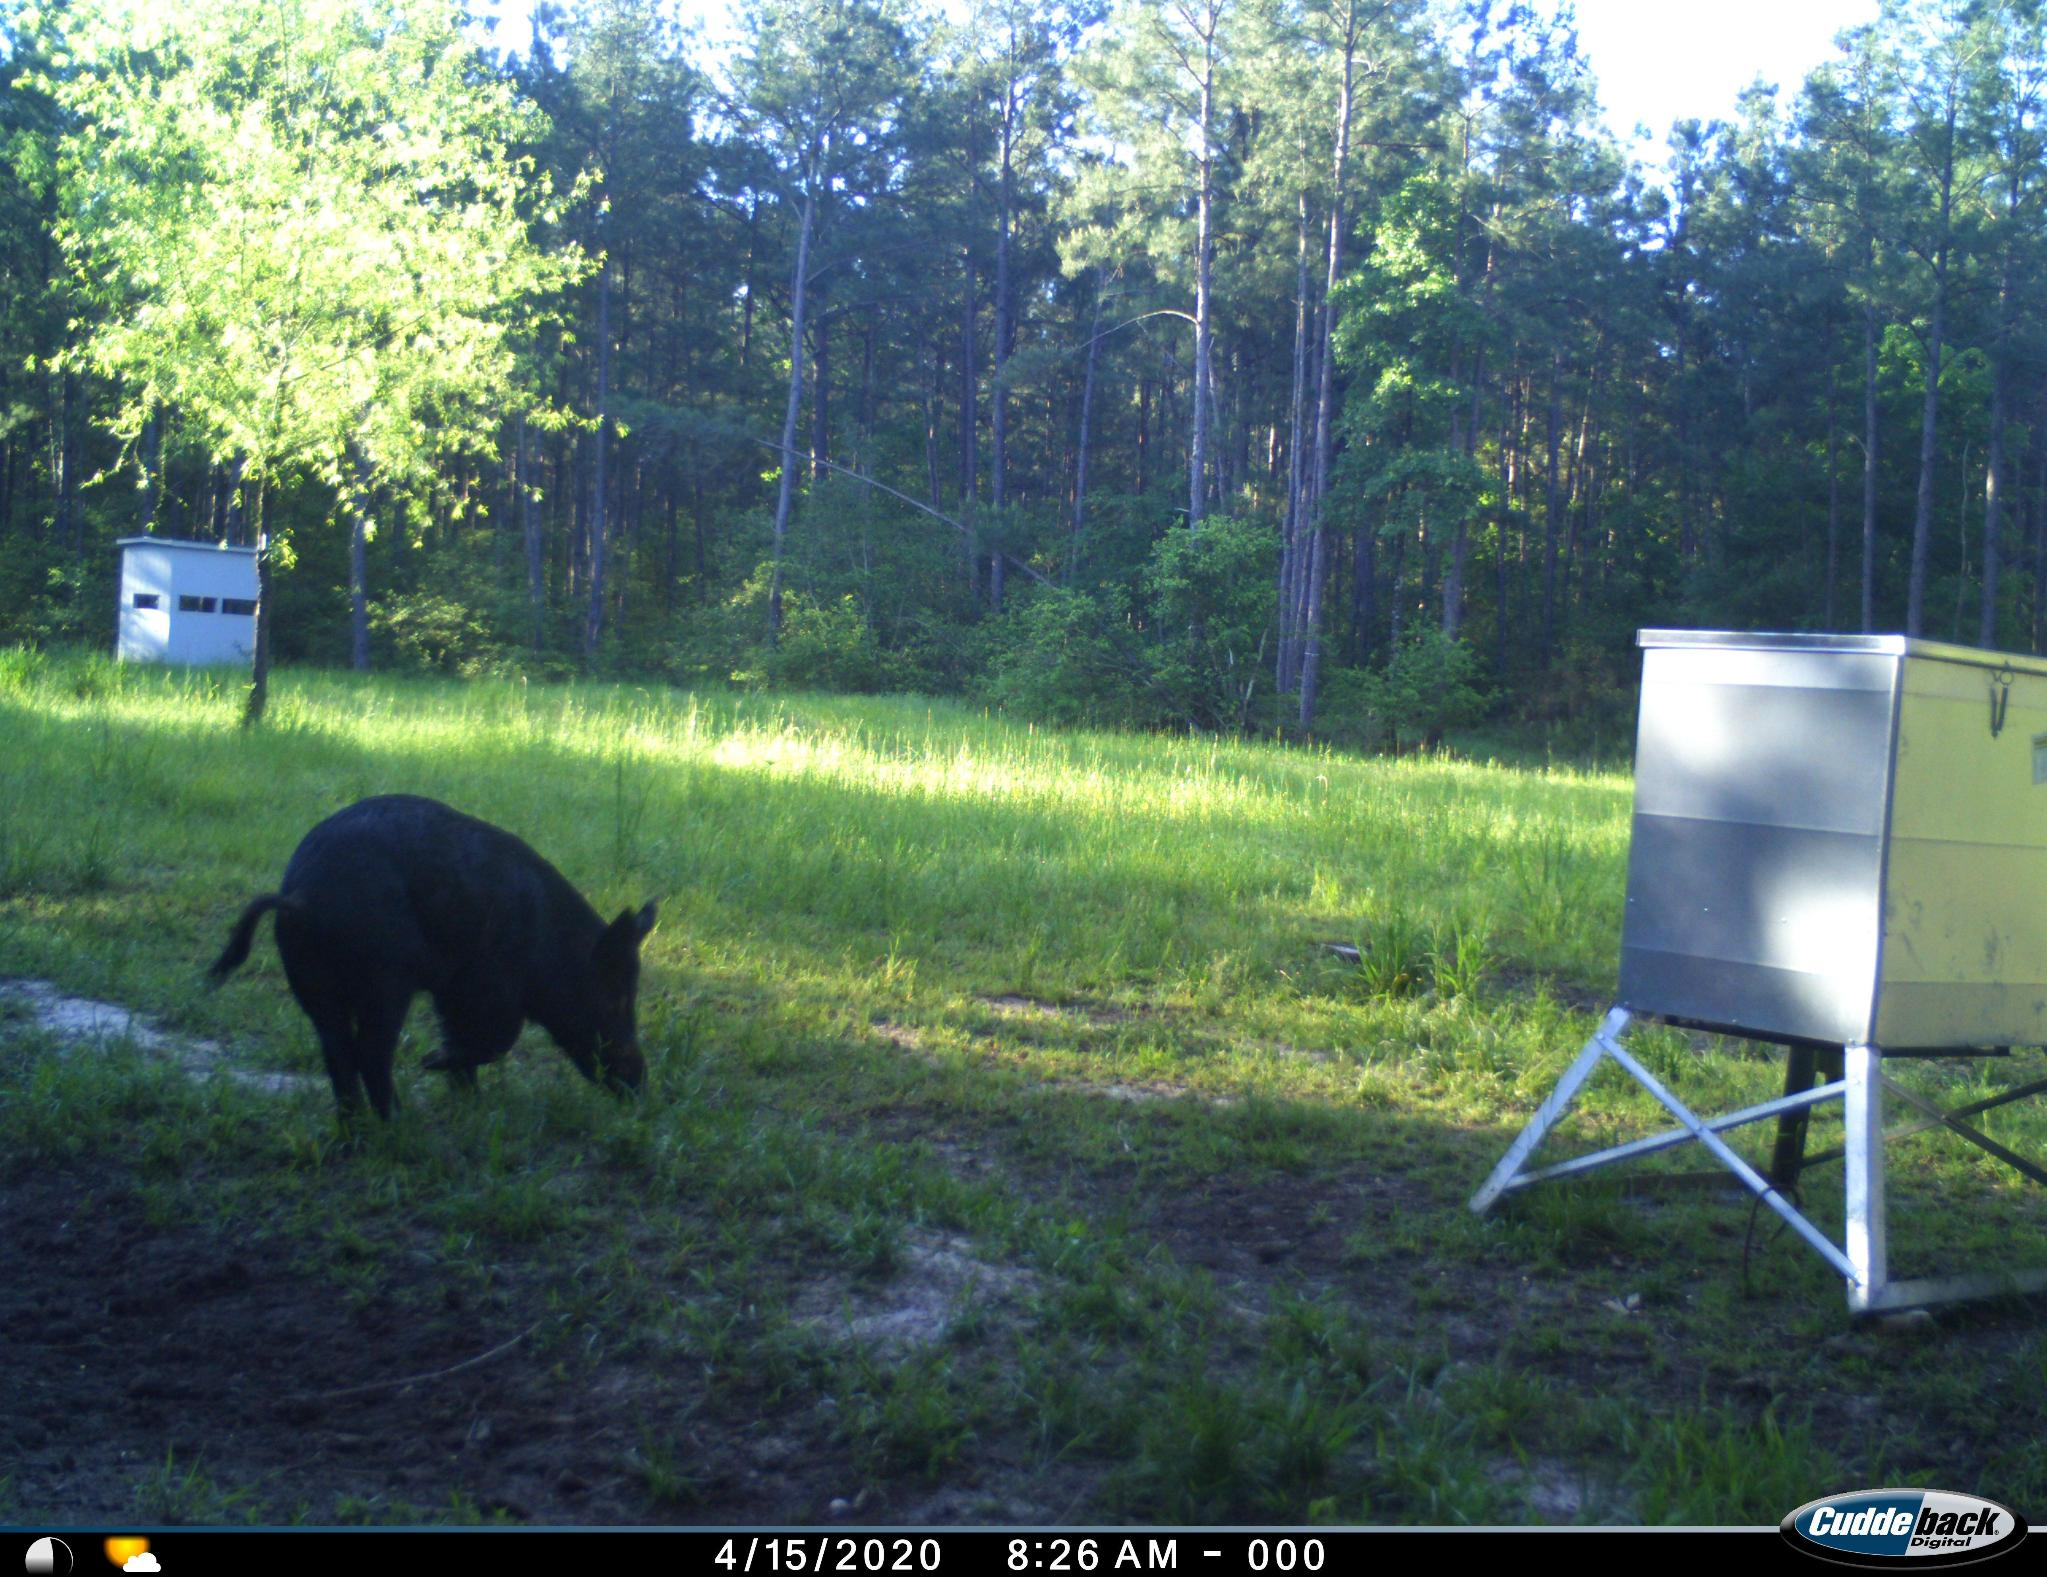Hog: (194, 782, 679, 1133)
